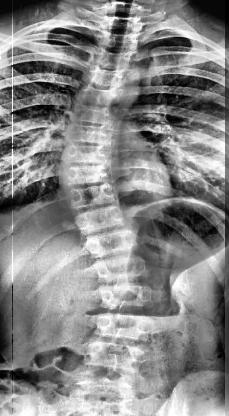Vertebrae: (93, 310, 156, 346), (97, 279, 158, 313), (68, 183, 118, 211), (94, 256, 148, 280), (64, 163, 114, 187), (77, 209, 127, 232), (80, 86, 124, 110), (62, 146, 114, 166), (94, 48, 136, 72), (70, 104, 120, 124), (89, 230, 138, 250), (70, 124, 114, 146), (89, 66, 129, 90), (104, 16, 145, 36), (98, 34, 138, 52)
